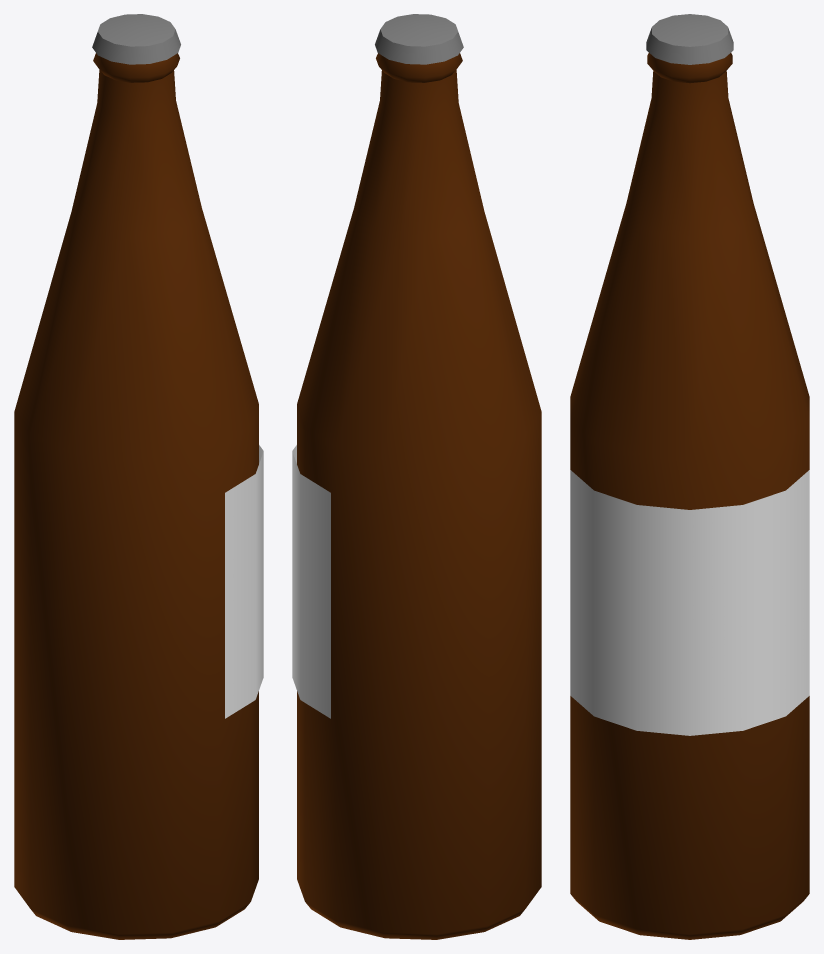
The model's file is BeerBottle2.fbx.
3 views of the same model, side by side, from view 1: azimuth 30°, elevation 25°; view 2: azimuth 150°, elevation 25°; view 3: azimuth 270°, elevation 25° (orthographic).
Parts seen in each view (by area): view 1: SM_BeerBottle_closed_LOD0; view 2: SM_BeerBottle_closed_LOD0; view 3: SM_BeerBottle_closed_LOD0.
Part boxes in pixels (bbox=[...]): SM_BeerBottle_closed_LOD0: bbox=[14, 14, 263, 939]; SM_BeerBottle_closed_LOD0: bbox=[292, 14, 541, 939]; SM_BeerBottle_closed_LOD0: bbox=[570, 14, 809, 939].
Bounding box in the file's own units: 2.82 × 10.72 × 2.69.
